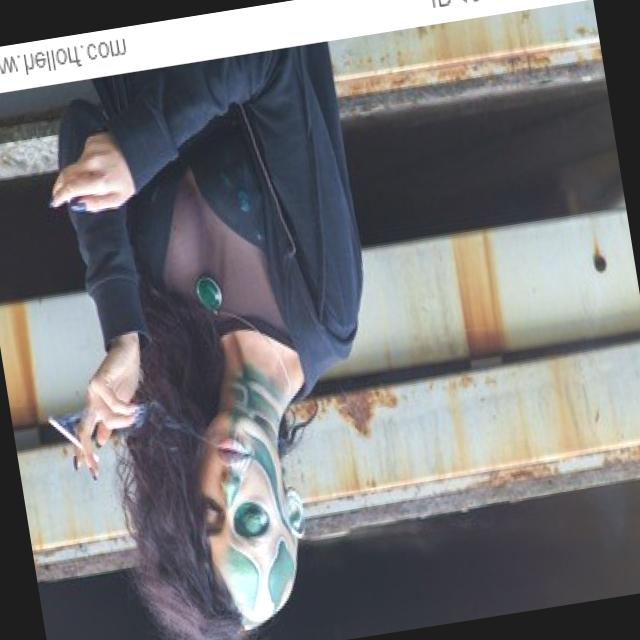cigarette: (45, 409, 82, 455)
